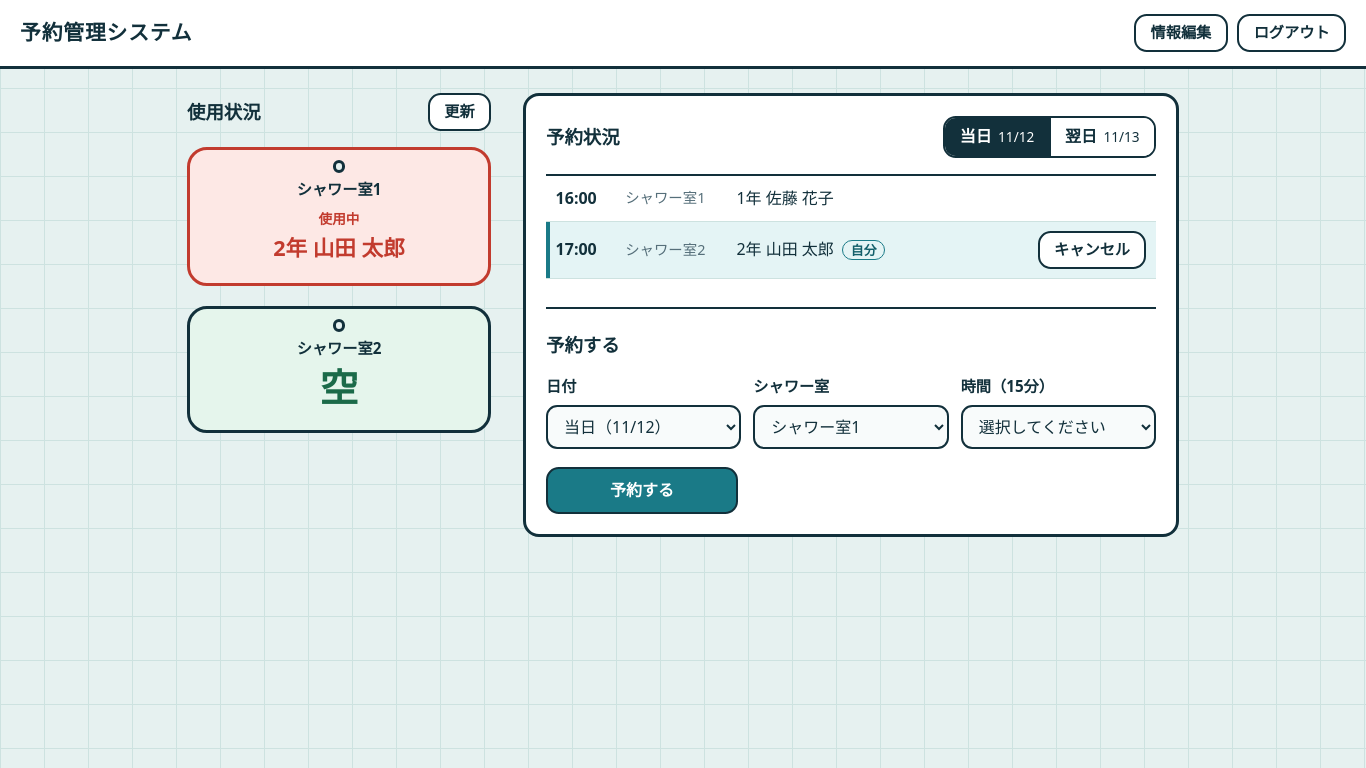
トップページ：使用状況 › 「更新」ボタンで、使用状況と予約状況を取得し直す
Expected: the heading "使用状況" is shown, [187,96,261,127]
Expected: the heading "シャワー室1" is shown, [297,179,381,199]
Click the button "更新" at {"x": 459, "y": 112}, box [428,93,491,131]
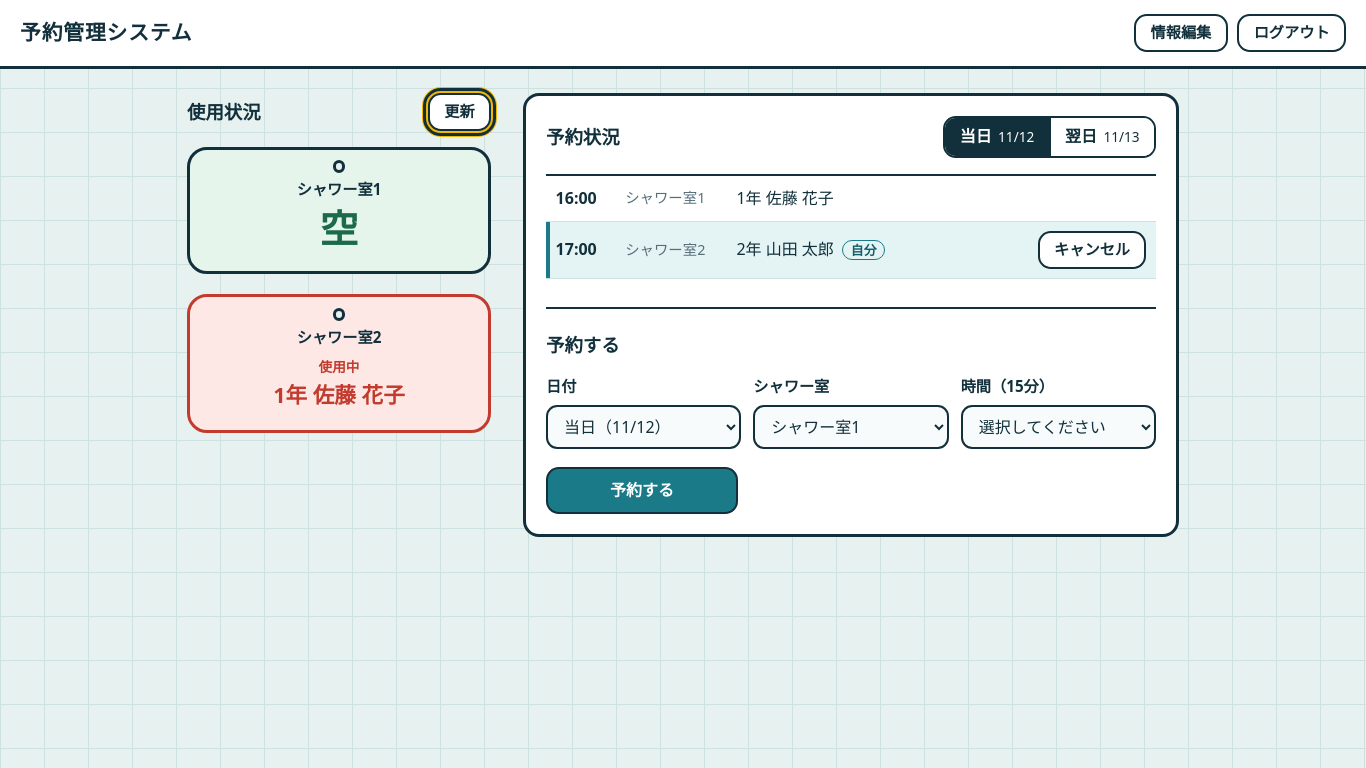
Now the text "1年 佐藤 花子" below "使用中" is shown, box [273,380,405,409]
